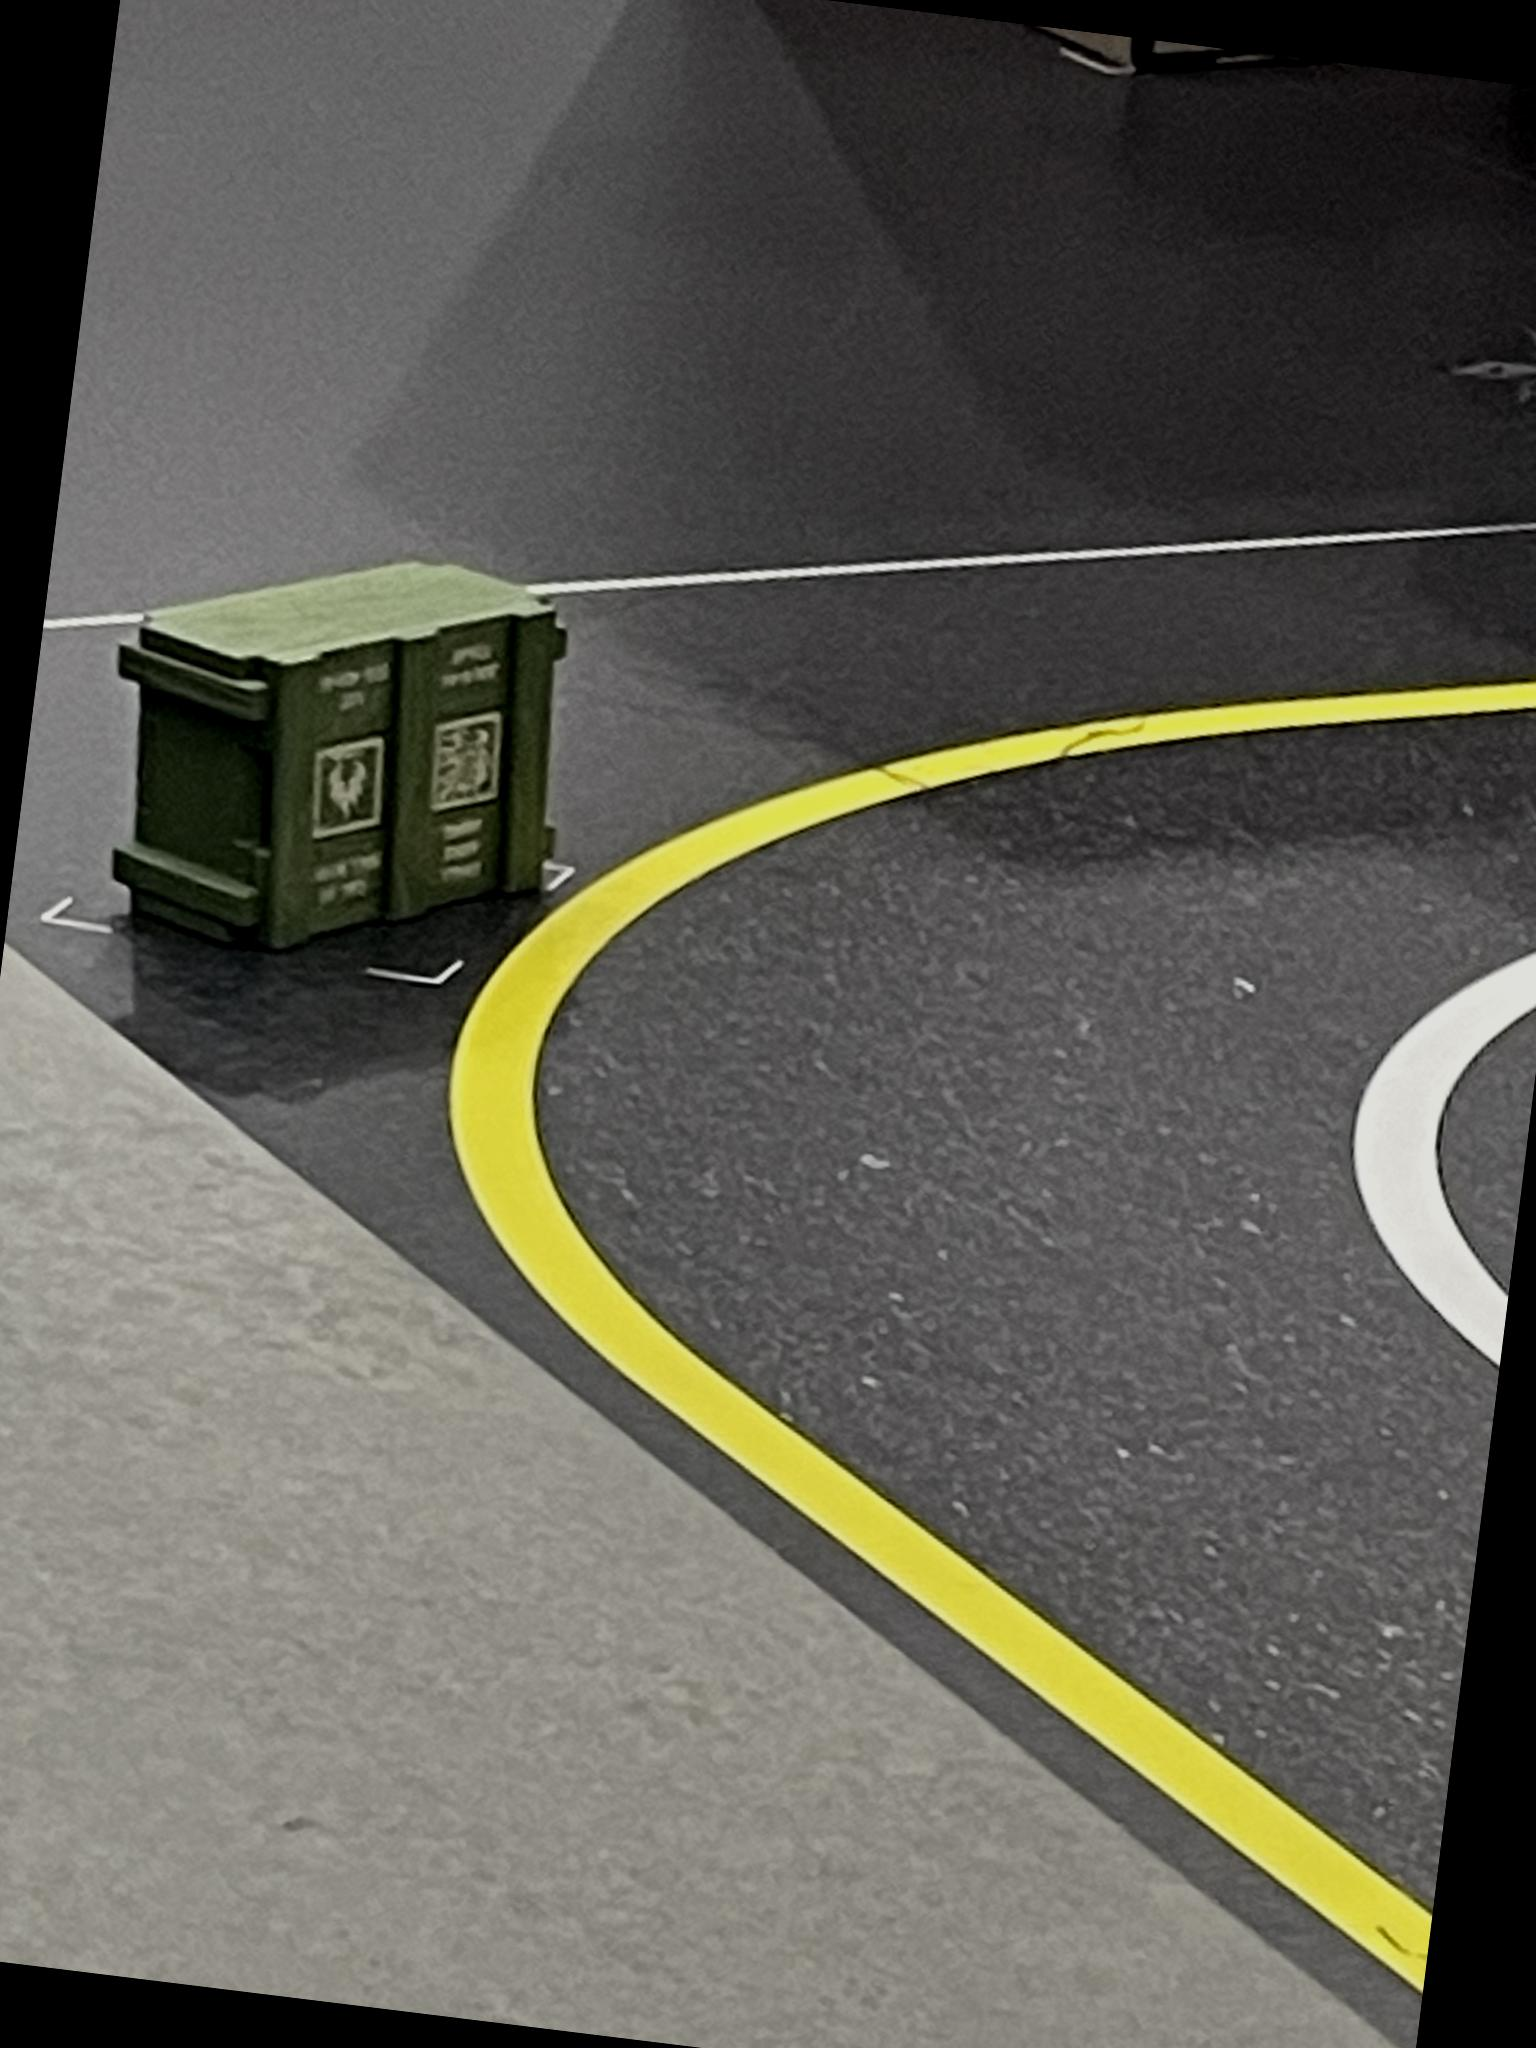Box: (76, 513, 597, 984)
